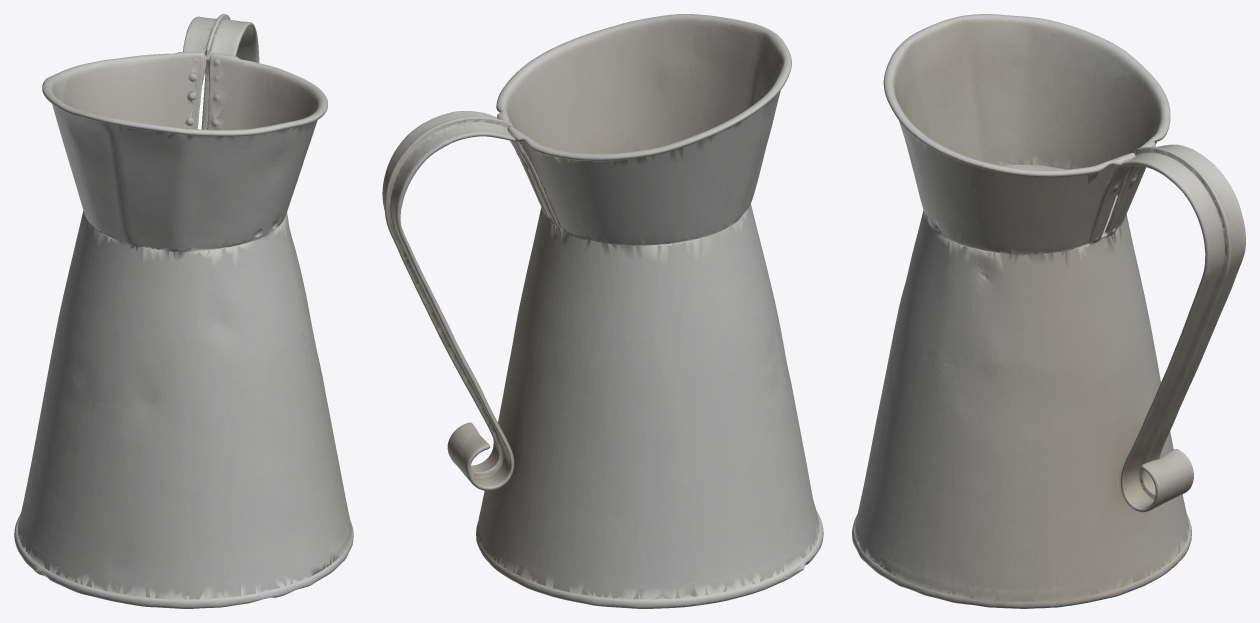
File: tripo_convert_12869d8f-6659-4950-8260-18a818d908b5.fbx
The picture shows the model from 3 angles, left to right: view 1: azimuth 30°, elevation 25°; view 2: azimuth 150°, elevation 25°; view 3: azimuth 270°, elevation 25°; orthographic projection. The views are drawn at different scales.
Parts seen in each view (by area): view 1: tripo_node_12869d8f; view 2: tripo_node_12869d8f; view 3: tripo_node_12869d8f.
Boxes of the visible parts, x1,y1,x2,y2 form: tripo_node_12869d8f: (14,14,353,608); tripo_node_12869d8f: (382,14,823,608); tripo_node_12869d8f: (852,14,1245,608).
Size of the model in its own units: 69.25 by 74.32 by 98.
Materials: 1 (1 with a texture image).
